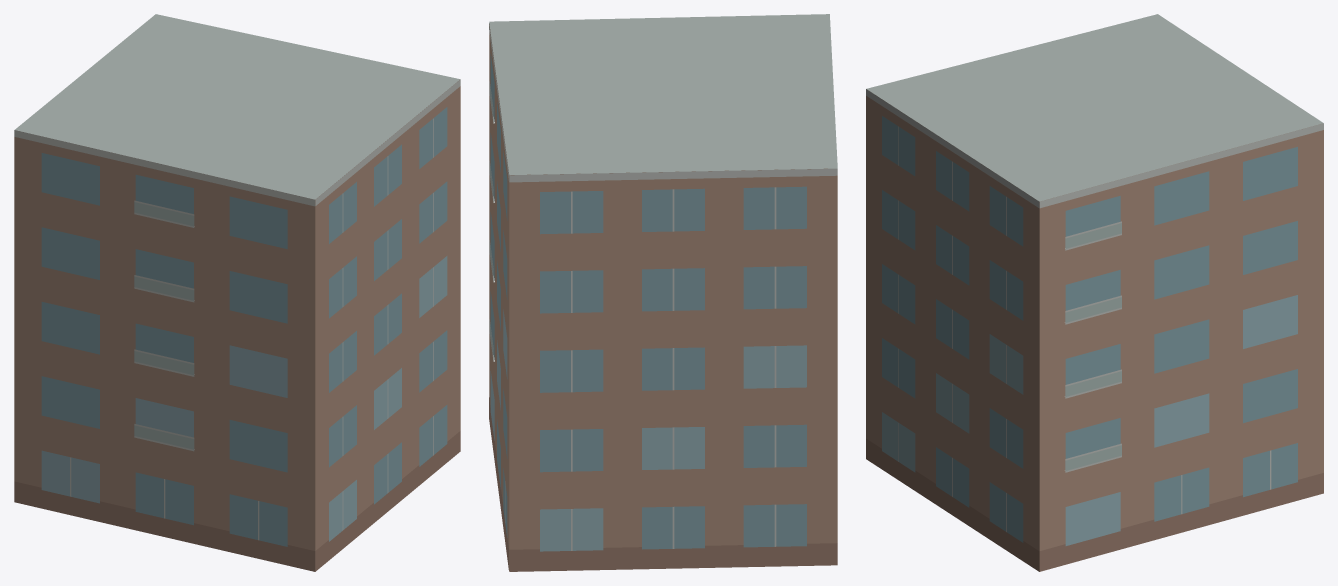
The model's file is survey-upis-32847057.glb.
The picture shows the model from 3 angles, left to right: view 1: azimuth 30°, elevation 25°; view 2: azimuth 150°, elevation 25°; view 3: azimuth 270°, elevation 25°; orthographic projection. The views are drawn at different scales.
Visible parts, largest first — view 1: survey-upis-32847057.tmp; view 2: survey-upis-32847057.tmp; view 3: survey-upis-32847057.tmp.
Boxes of the visible parts, x1,y1,x2,y2 form: survey-upis-32847057.tmp: (14, 14, 460, 571); survey-upis-32847057.tmp: (489, 14, 837, 571); survey-upis-32847057.tmp: (866, 14, 1323, 571).
Size of the model in its own units: 14.46 by 13.3 by 14.91.
